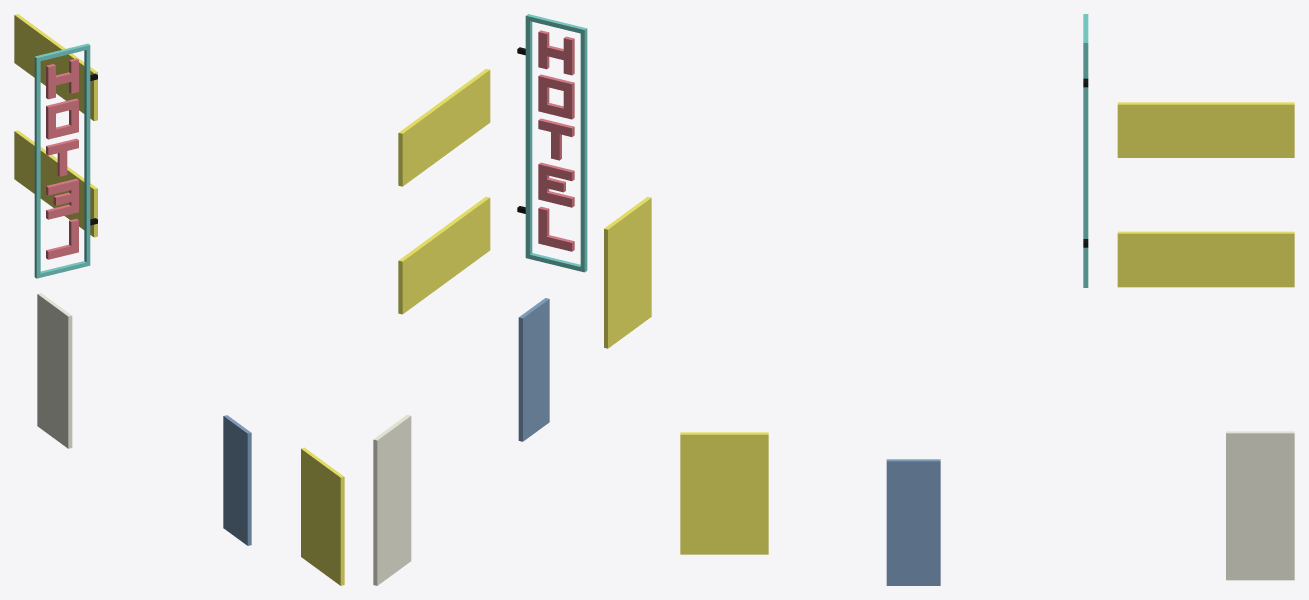
Rendered from neon2.obj.
3 views of the same model, side by side, from view 1: azimuth 30°, elevation 25°; view 2: azimuth 150°, elevation 25°; view 3: azimuth 270°, elevation 25° (orthographic). The views are drawn at different scales.
Size of the model in its own units: 33 by 115 by 125.
1 material, 1 textured.
